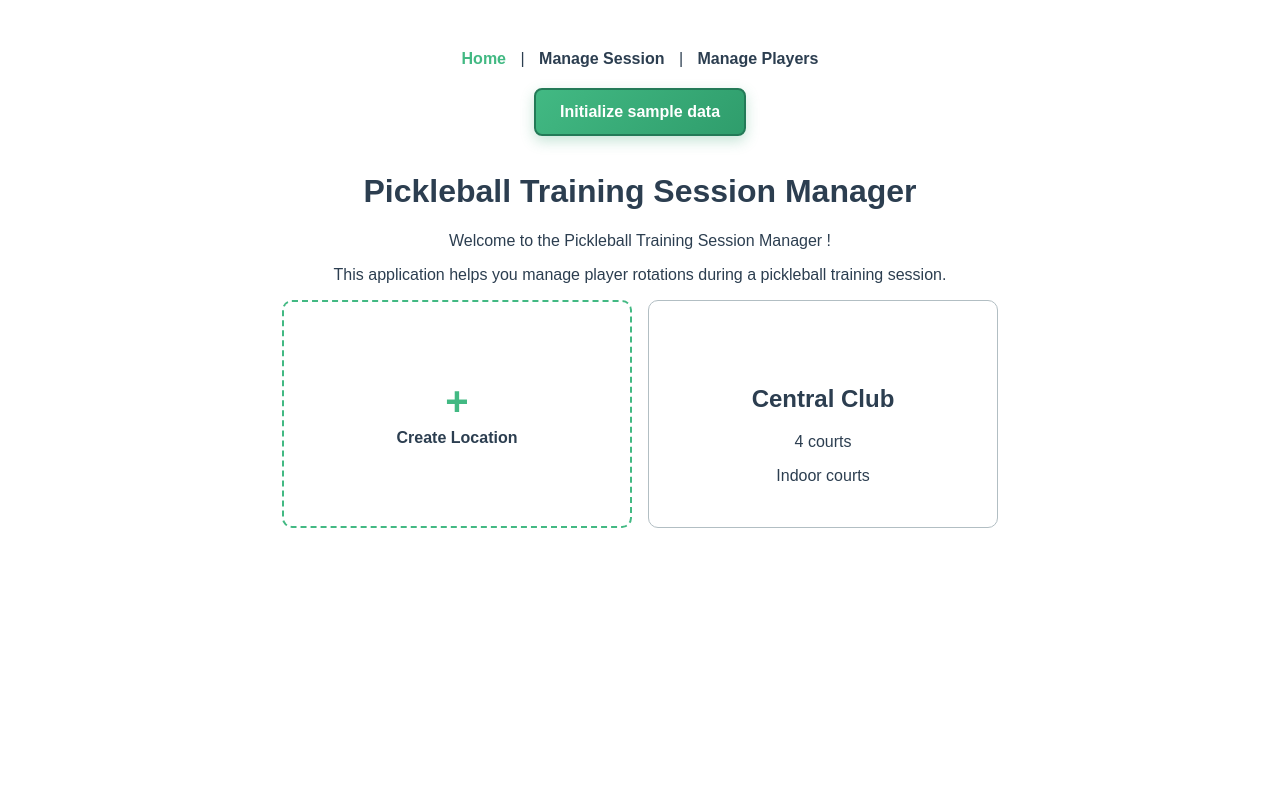
Test: Application routes › locks the court count while a Location session is started
The width and height of the screenshot is (1280, 800).
Click the button with class "location-card-select" at [824, 399], box [752,385,895,413]
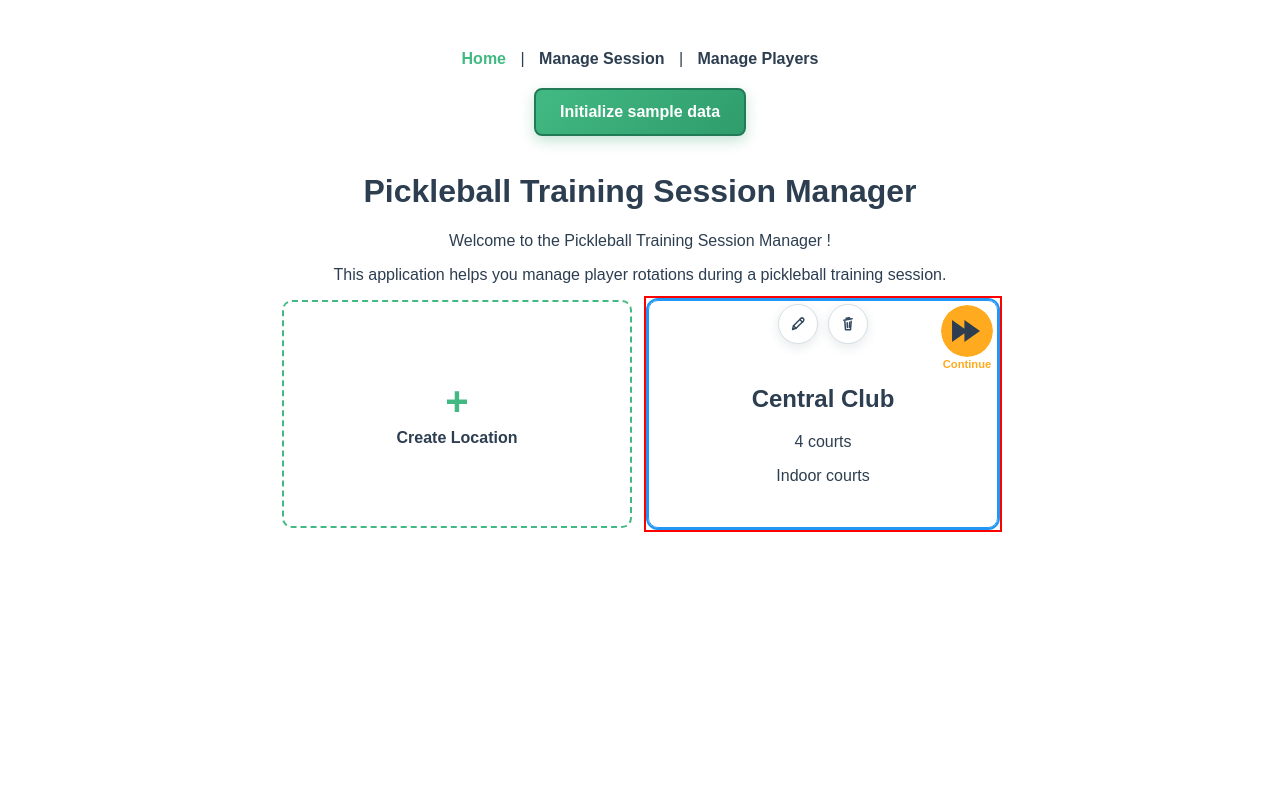
Result: the button with class "location-card-session-action" reads "Continue" at [941,305,993,370]
Result: the icon with class "location-card-session-icon--fast-forward" is shown at [941,305,993,357]
Click the button with class "location-card-edit" at [798, 324], box [778,304,818,344]
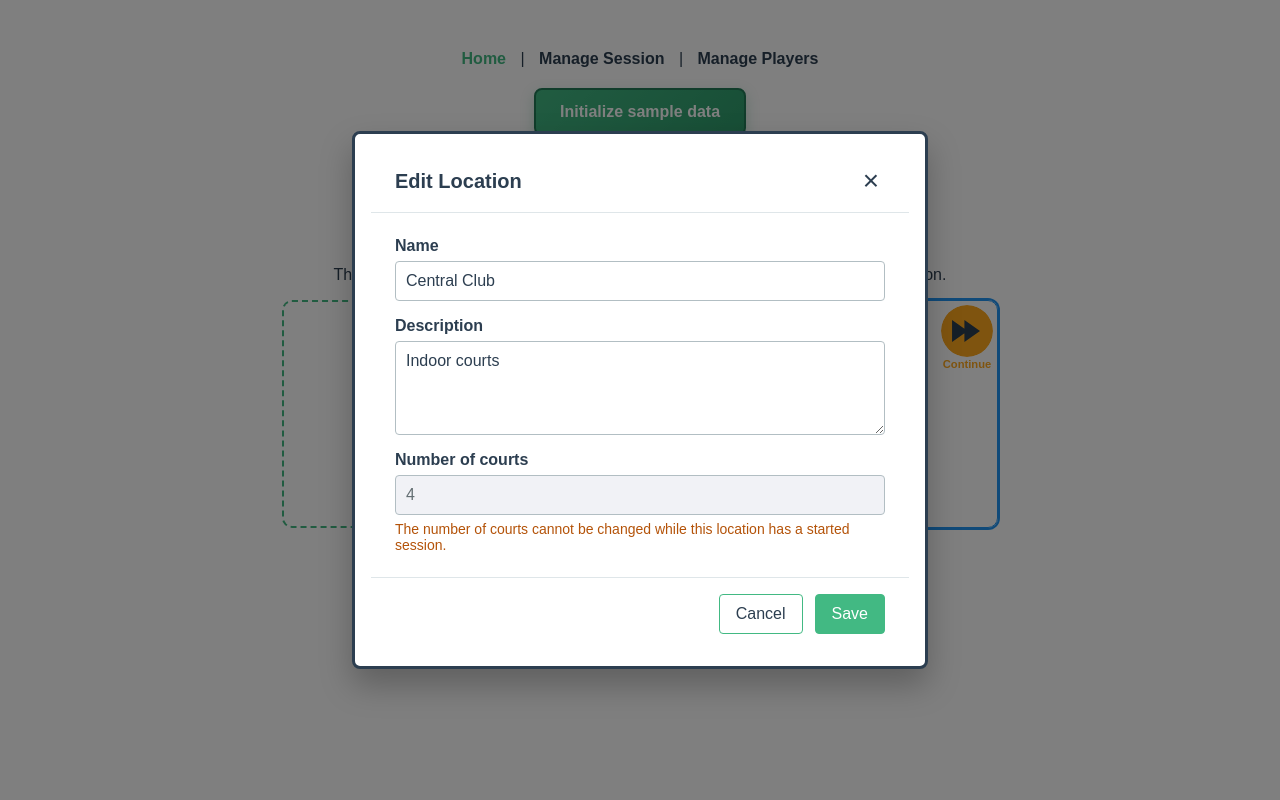
Expected: the element with id "location-form-name" is enabled
Result: the number field with id "location-form-nb-courts" is disabled at [395,475,885,515]
Result: the text with class "nb-courts-restriction" shows "started session" at [395,521,885,553]
